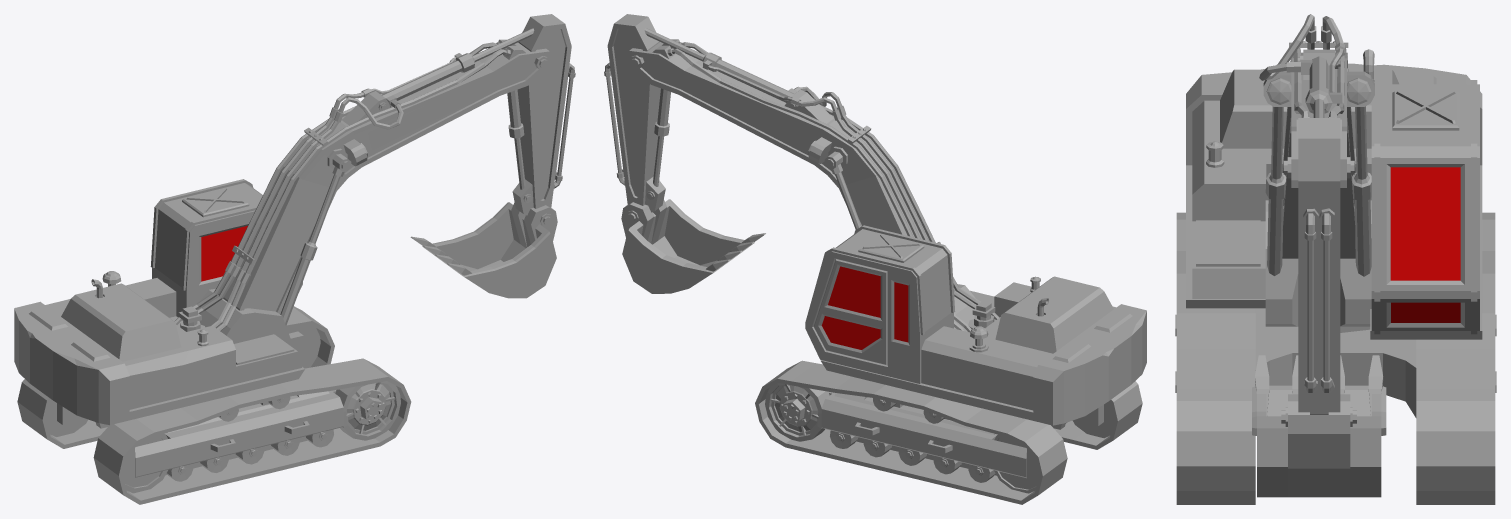
The model's file is SK_Veh_Excavator_01.fbx.
The picture shows the model from 3 angles, left to right: view 1: azimuth 30°, elevation 25°; view 2: azimuth 150°, elevation 25°; view 3: azimuth 270°, elevation 25°; orthographic projection. The views are drawn at different scales.
Parts seen in each view (by area): view 1: SK_Veh_Excavator_01_Top, SK_Veh_Excavator_01_Arm_01, SK_Veh_Excavator_01_Track_r, SK_Veh_Excavator_01, SK_Veh_Excavator_01_Arm_02, SK_Veh_Excavator_01_Bucket_01, SK_Veh_Excavator_01_Track_l, SK_Veh_Excavator_01_Track_Wheel_fr, SK_Veh_Excavator_01_Glass, SK_Veh_Excavator_01_Track_Wheel_rr, SK_Veh_Excavator_01_Track_Wheel_fl, SK_Veh_Excavator_01_Track_Wheel_rl; view 2: SK_Veh_Excavator_01_Top, SK_Veh_Excavator_01_Arm_01, SK_Veh_Excavator_01_Track_l, SK_Veh_Excavator_01, SK_Veh_Excavator_01_Arm_02, SK_Veh_Excavator_01_Bucket_01, SK_Veh_Excavator_01_Glass, SK_Veh_Excavator_01_Track_Wheel_fl, SK_Veh_Excavator_01_Track_r, SK_Veh_Excavator_01_Track_Wheel_rl, SK_Veh_Excavator_01_Track_Wheel_rr; view 3: SK_Veh_Excavator_01_Top, SK_Veh_Excavator_01_Track_r, SK_Veh_Excavator_01_Arm_01, SK_Veh_Excavator_01_Track_l, SK_Veh_Excavator_01_Bucket_01, SK_Veh_Excavator_01_Arm_02, SK_Veh_Excavator_01_Glass, SK_Veh_Excavator_01.
Part boxes in pixels (<box>): SK_Veh_Excavator_01_Top: <box>14,179,304,425</box>; SK_Veh_Excavator_01_Arm_01: <box>214,28,552,325</box>; SK_Veh_Excavator_01_Track_r: <box>93,358,411,504</box>; SK_Veh_Excavator_01: <box>57,331,343,481</box>; SK_Veh_Excavator_01_Arm_02: <box>507,14,575,226</box>; SK_Veh_Excavator_01_Bucket_01: <box>410,202,557,298</box>; SK_Veh_Excavator_01_Track_l: <box>17,306,334,448</box>; SK_Veh_Excavator_01_Track_Wheel_fr: <box>335,381,400,440</box>; SK_Veh_Excavator_01_Glass: <box>201,226,247,281</box>; SK_Veh_Excavator_01_Track_Wheel_rr: <box>123,433,167,493</box>; SK_Veh_Excavator_01_Track_Wheel_fl: <box>287,325,320,368</box>; SK_Veh_Excavator_01_Track_Wheel_rl: <box>46,400,88,436</box>; SK_Veh_Excavator_01_Top: <box>805,225,1146,425</box>; SK_Veh_Excavator_01_Arm_01: <box>626,28,959,292</box>; SK_Veh_Excavator_01_Track_l: <box>755,360,1067,504</box>; SK_Veh_Excavator_01: <box>821,392,1103,482</box>; SK_Veh_Excavator_01_Arm_02: <box>604,14,670,222</box>; SK_Veh_Excavator_01_Bucket_01: <box>621,199,765,293</box>; SK_Veh_Excavator_01_Glass: <box>821,266,908,349</box>; SK_Veh_Excavator_01_Track_Wheel_fl: <box>765,383,829,441</box>; SK_Veh_Excavator_01_Track_r: <box>1054,381,1142,449</box>; SK_Veh_Excavator_01_Track_Wheel_rl: <box>994,434,1038,493</box>; SK_Veh_Excavator_01_Track_Wheel_rr: <box>1072,401,1113,438</box>; SK_Veh_Excavator_01_Top: <box>1186,49,1482,339</box>; SK_Veh_Excavator_01_Track_r: <box>1176,212,1255,504</box>; SK_Veh_Excavator_01_Arm_01: <box>1259,14,1374,276</box>; SK_Veh_Excavator_01_Track_l: <box>1416,212,1495,504</box>; SK_Veh_Excavator_01_Bucket_01: <box>1252,355,1386,497</box>; SK_Veh_Excavator_01_Arm_02: <box>1281,118,1356,426</box>; SK_Veh_Excavator_01_Glass: <box>1390,167,1460,322</box>; SK_Veh_Excavator_01: <box>1175,308,1496,417</box>.
Bounding box in the file's own units: 1046 × 651 × 353.
